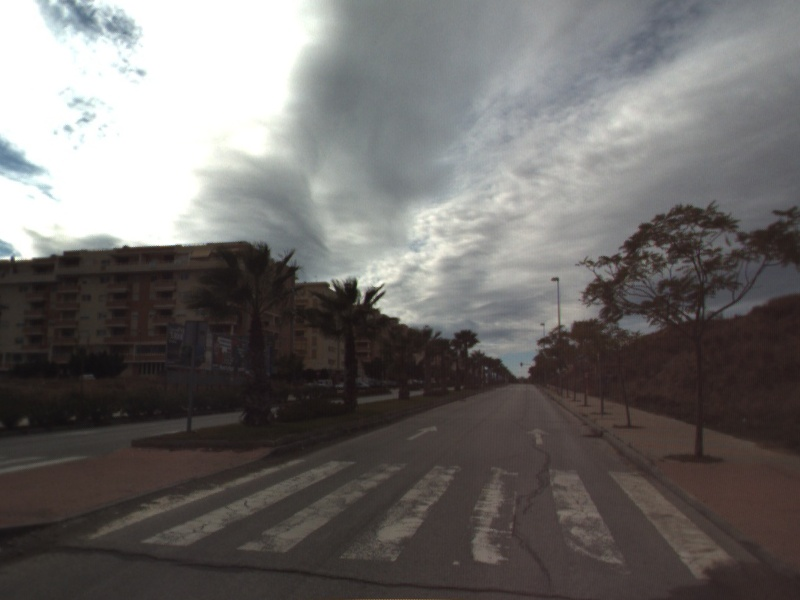STRAIGHT: (405, 424, 440, 442), (525, 426, 552, 447)
